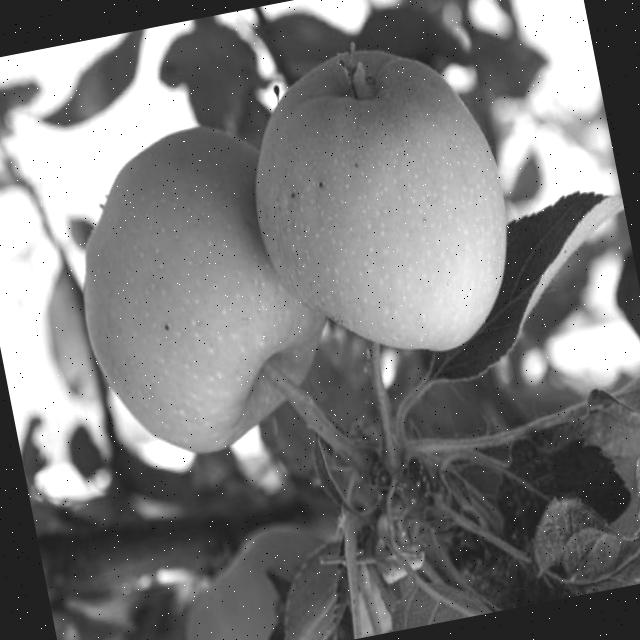Unripe: (230, 23, 531, 382), (51, 110, 342, 472)
